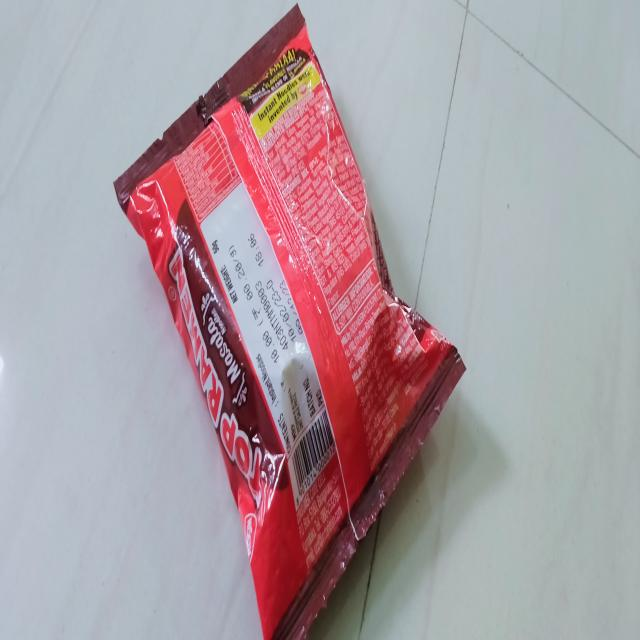maggi: (115, 0, 468, 640)
